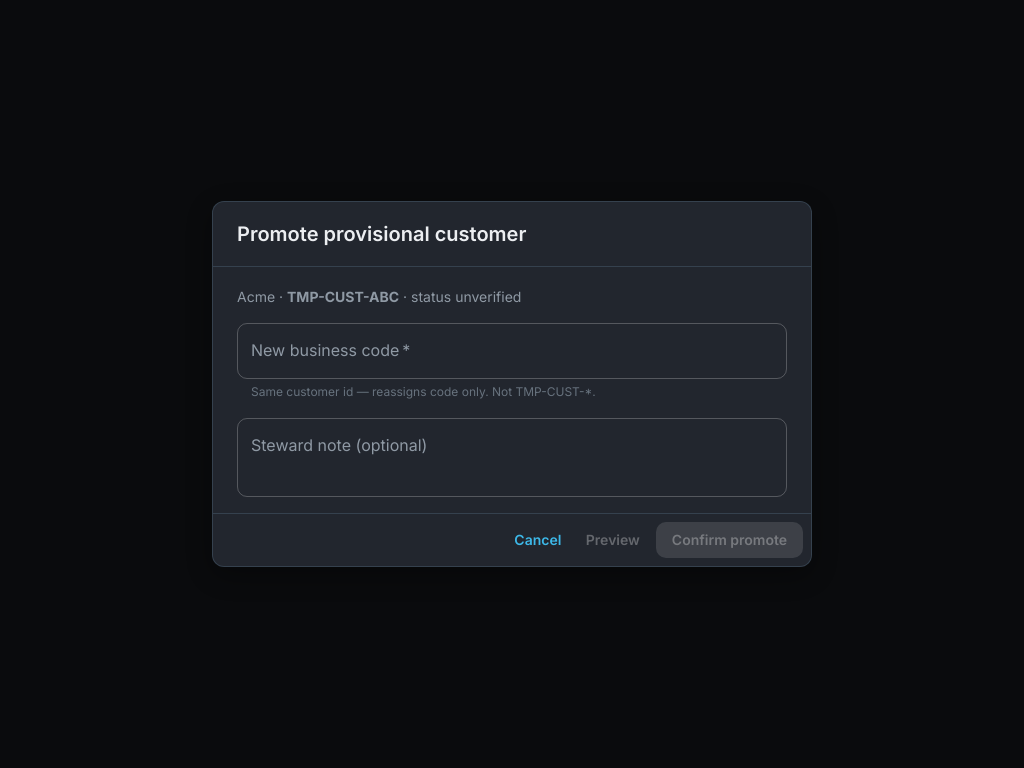
Test: CustomerPromoteDialog › collision disables confirm
The image size is (1024, 768).
In the field with test id "promote-new-code": (512, 351) [237, 323, 787, 379], type "ACME-001"
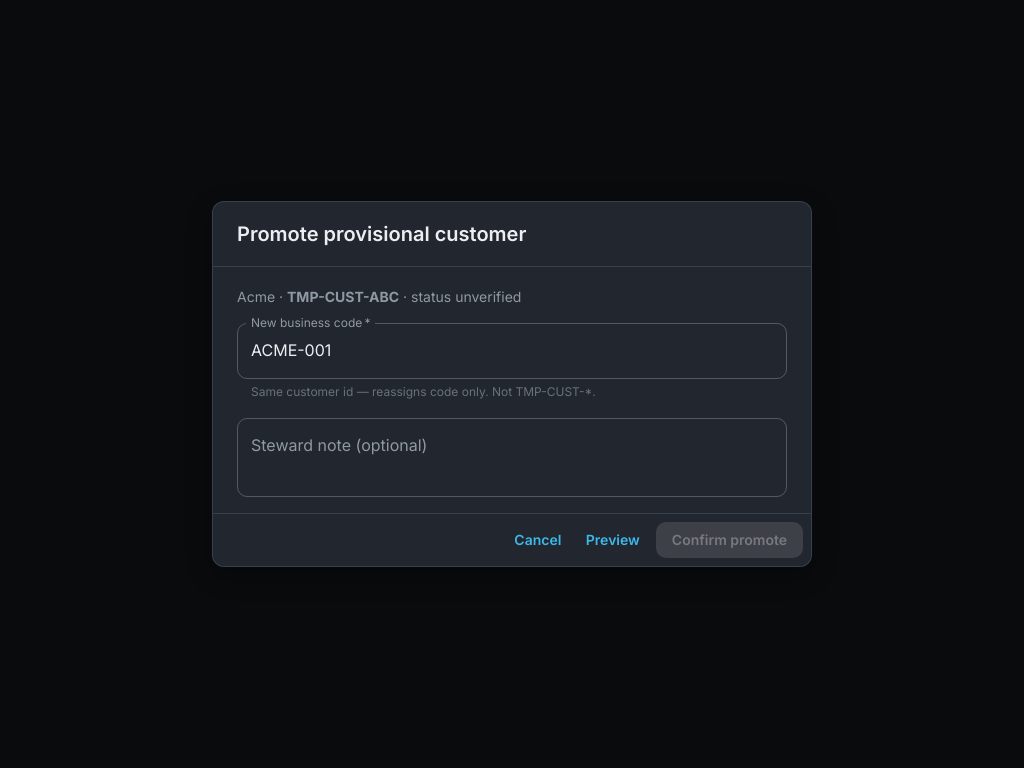
Click the button with test id "promote-preview-btn": (613, 540) [578, 522, 648, 558]
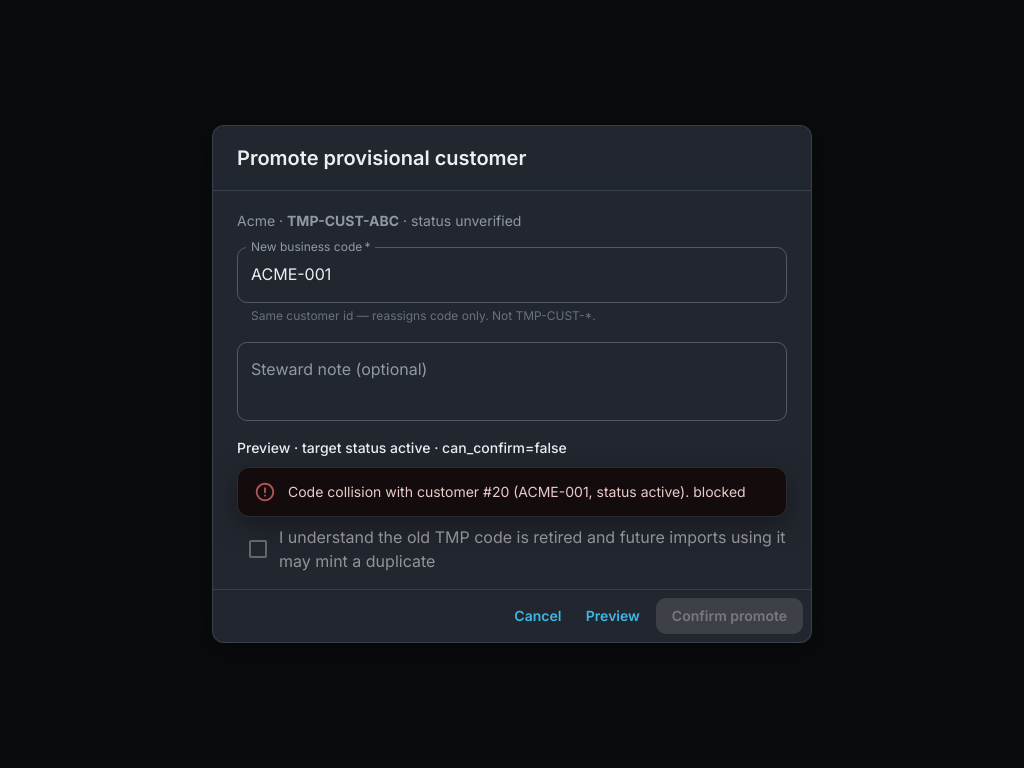
Expected: the button with test id "promote-confirm-btn" is disabled, [656, 598, 803, 634]
Expected: the message "Code collision with customer #20 (ACME-001, status active). blocked" is shown, [237, 467, 787, 517]
